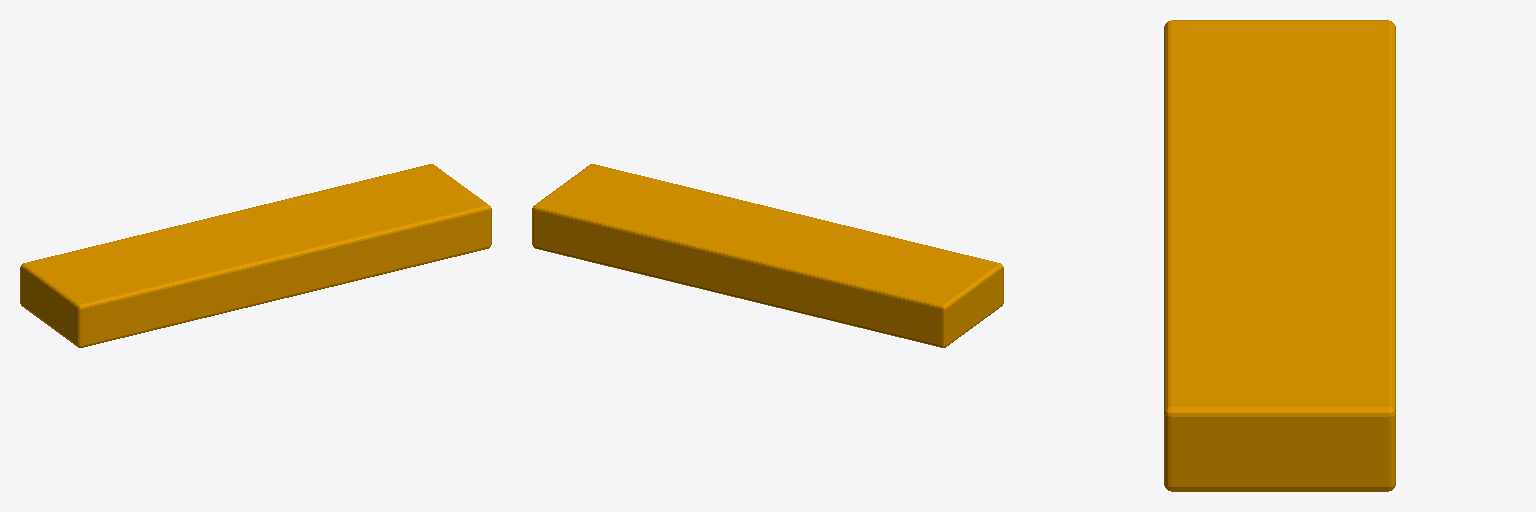
The robot description file, URDF, robot "sharpening_stone":
<?xml version="1.0" ?>
<robot name="sharpening_stone">
  <link name="base_link">
    <inertial>
      <origin xyz="0 0 0.005" rpy="0 0 0"/>
      <mass value="0.0603"/>
      <inertia ixx="3.643125e-06" ixy="0" ixz="0" iyy="5.07525e-05" iyz="0" izz="5.3390625e-05"/>
    </inertial>
    <visual name="visual">
      <origin xyz="0 0 0" rpy="0 0 0"/>
      <geometry>
        <mesh filename="meshes/visual.obj" scale="1 1 1"/>
      </geometry>
    </visual>
    <collision name="stone">
      <origin xyz="0 0 0" rpy="0 0 0"/>
      <geometry>
        <mesh filename="meshes/collision/stone.obj" scale="1 1 1"/>
      </geometry>
    </collision>
  </link>
</robot>

--- What the picture shows (computed from the rendered views, not written in the file) ---
The picture shows the robot from 3 angles, left to right: view 1: azimuth 30°, elevation 25°; view 2: azimuth 150°, elevation 25°; view 3: azimuth 270°, elevation 25°; orthographic projection.
Robot: sharpening_stone — 1 links, 0 joints (none); root link base_link; default pose: all joints at 0.
Links seen in each view (by area): view 1: base_link; view 2: base_link; view 3: base_link.
Boxes of the visible links, bbox=[...] form: base_link: bbox=[20, 164, 491, 347]; base_link: bbox=[532, 164, 1003, 347]; base_link: bbox=[1164, 20, 1395, 491].
Size in the robot's own frame: 0.1 by 0.025 by 0.01 metres.
Meshes: 1 distinct files referenced, 1 mesh visuals loaded (1 OBJ).
